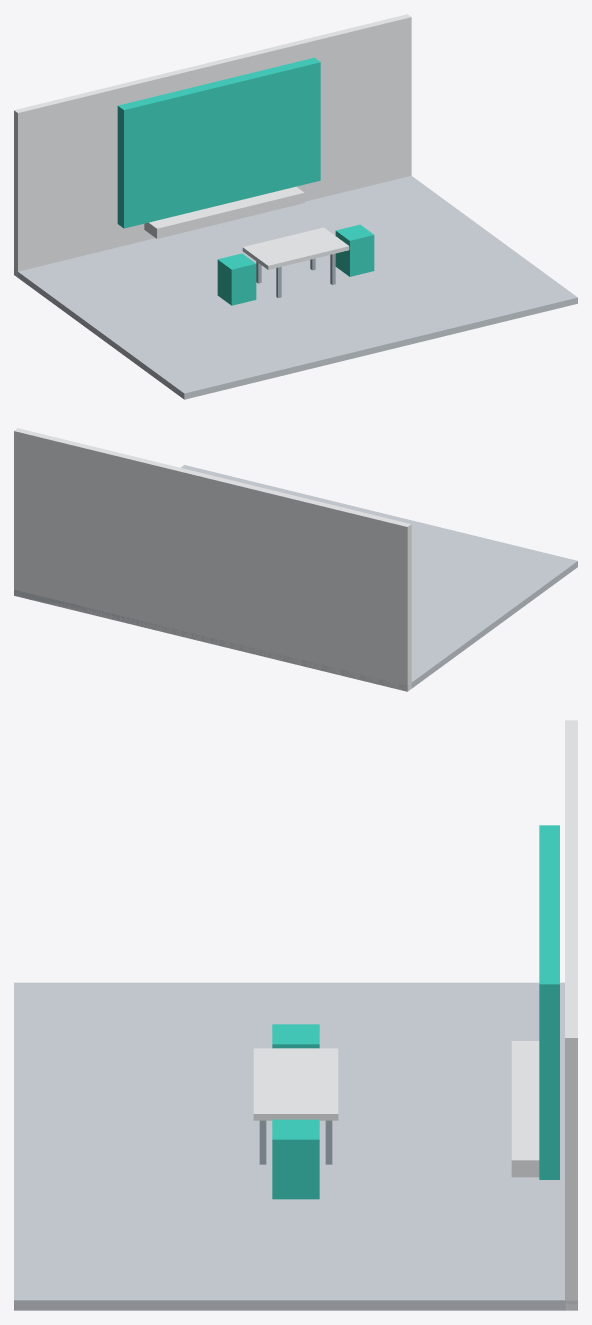
3 views of the same model, one above another, from view 1: azimuth 30°, elevation 25°; view 2: azimuth 150°, elevation 25°; view 3: azimuth 270°, elevation 25° (orthographic). The views are drawn at different scales.
Visible parts, largest first — view 1: Exhibition Booth Concept; view 2: Exhibition Booth Concept; view 3: Exhibition Booth Concept.
Boxes of the visible parts, left/top/right/bottom form: Exhibition Booth Concept: left=14, top=14, right=577, bottom=399; Exhibition Booth Concept: left=14, top=428, right=577, bottom=691; Exhibition Booth Concept: left=14, top=720, right=577, bottom=1310.
Size of the model in its own units: 8 by 3.2 by 6.
